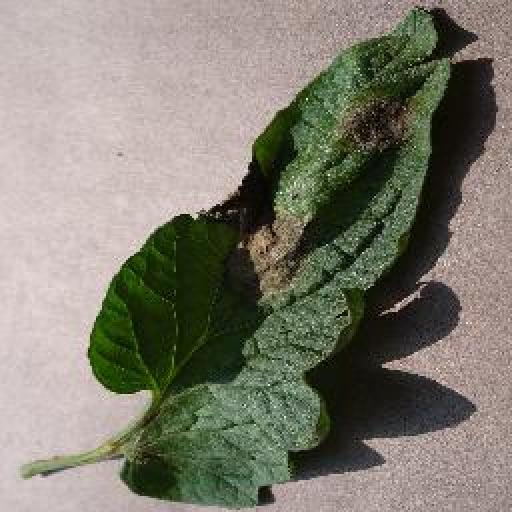disease_tomato: (86, 2, 452, 512)
